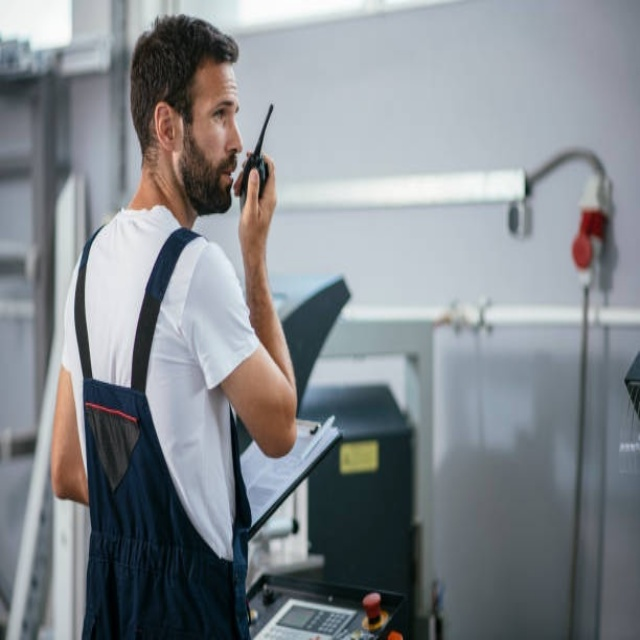Sin_gafas: (192, 86, 243, 138)
Sin_guantes: (239, 149, 281, 245)
Sin_mascara: (204, 155, 237, 212)
